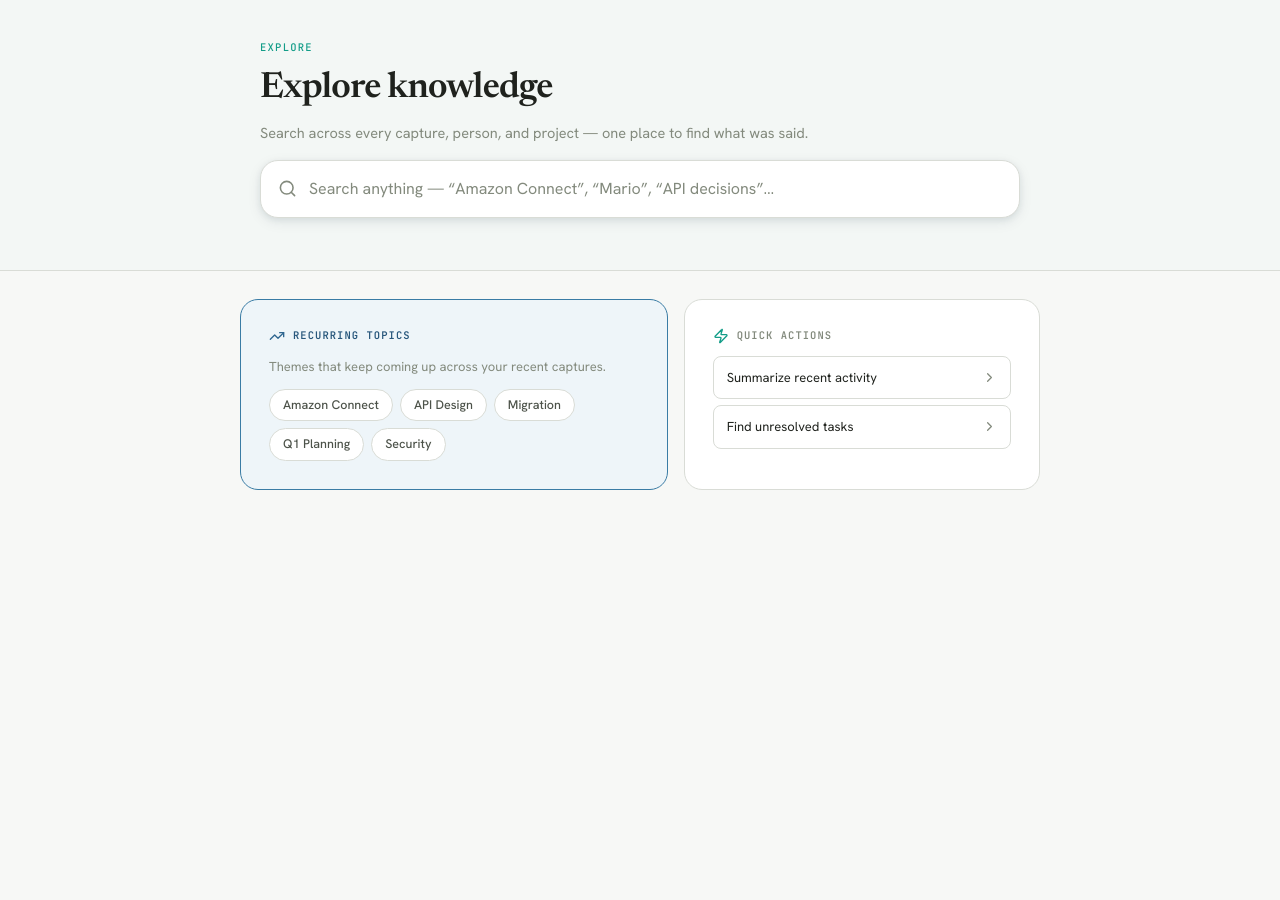
Test: Explore Page › should render tab filter buttons
The width and height of the screenshot is (1280, 900).
Replace the text in the field with placeholder "Search anything" with "test": point(640, 188) left=260, top=160, right=1020, bottom=218
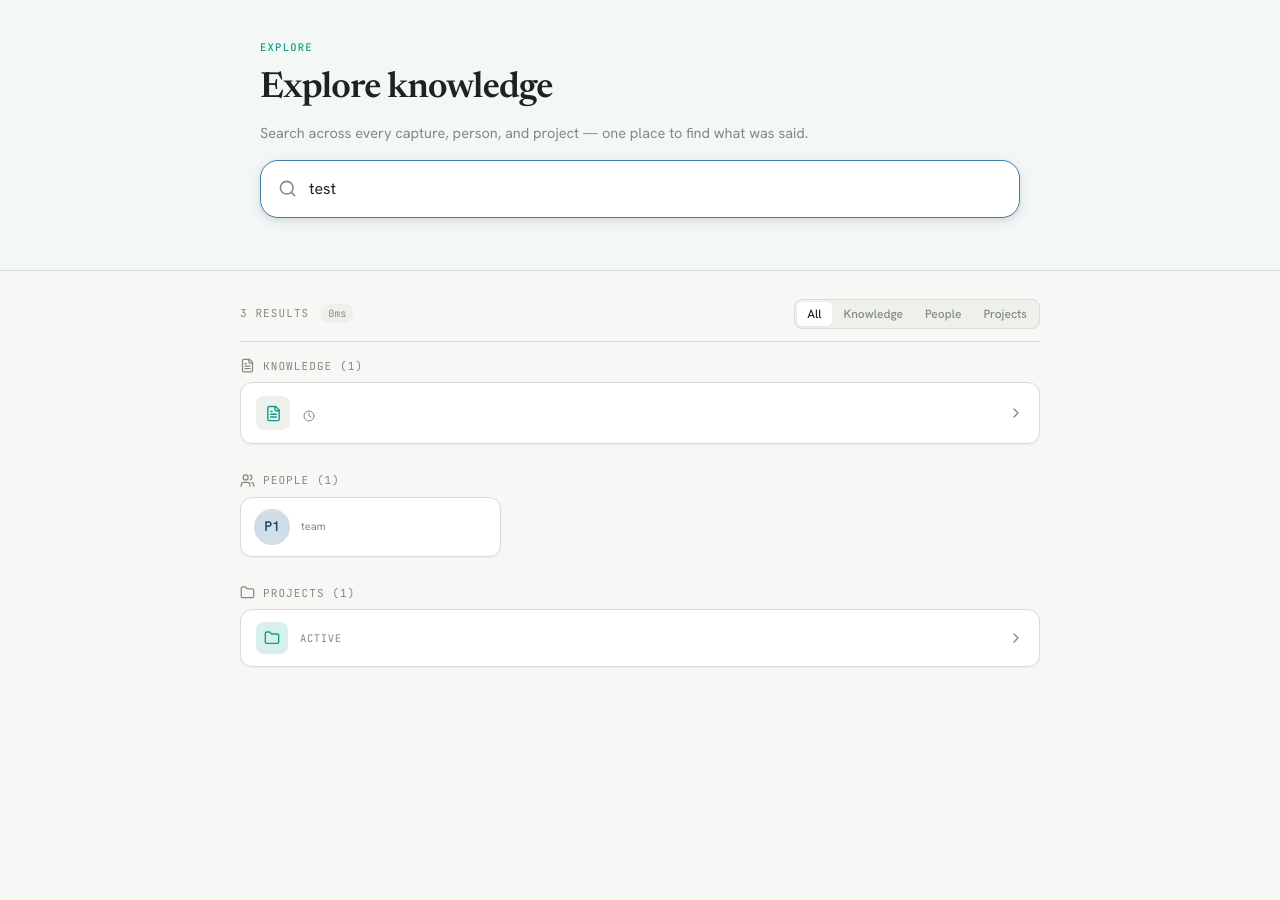
Expected: the tab "All" is shown, left=797, top=302, right=832, bottom=326
Expected: the tab "Knowledge" is shown, left=834, top=302, right=913, bottom=326
Expected: the tab "People" is shown, left=915, top=302, right=971, bottom=326
